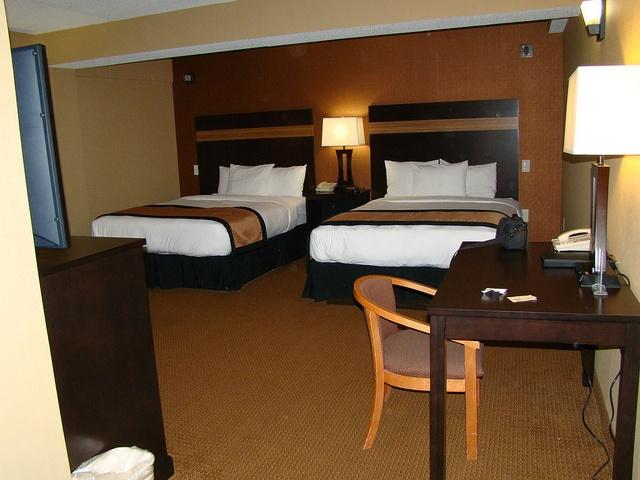Kursi: (352, 273, 483, 459)
Meja: (424, 240, 639, 478)
